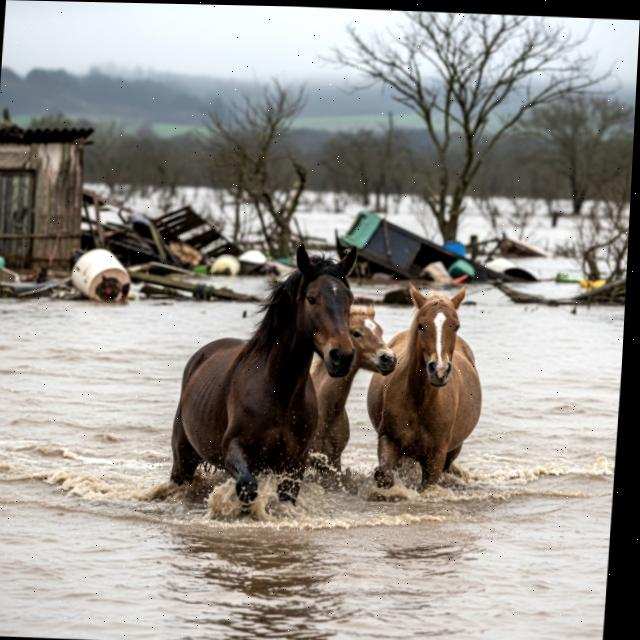horse: (157, 237, 361, 523), (366, 278, 501, 489), (302, 283, 398, 487)
